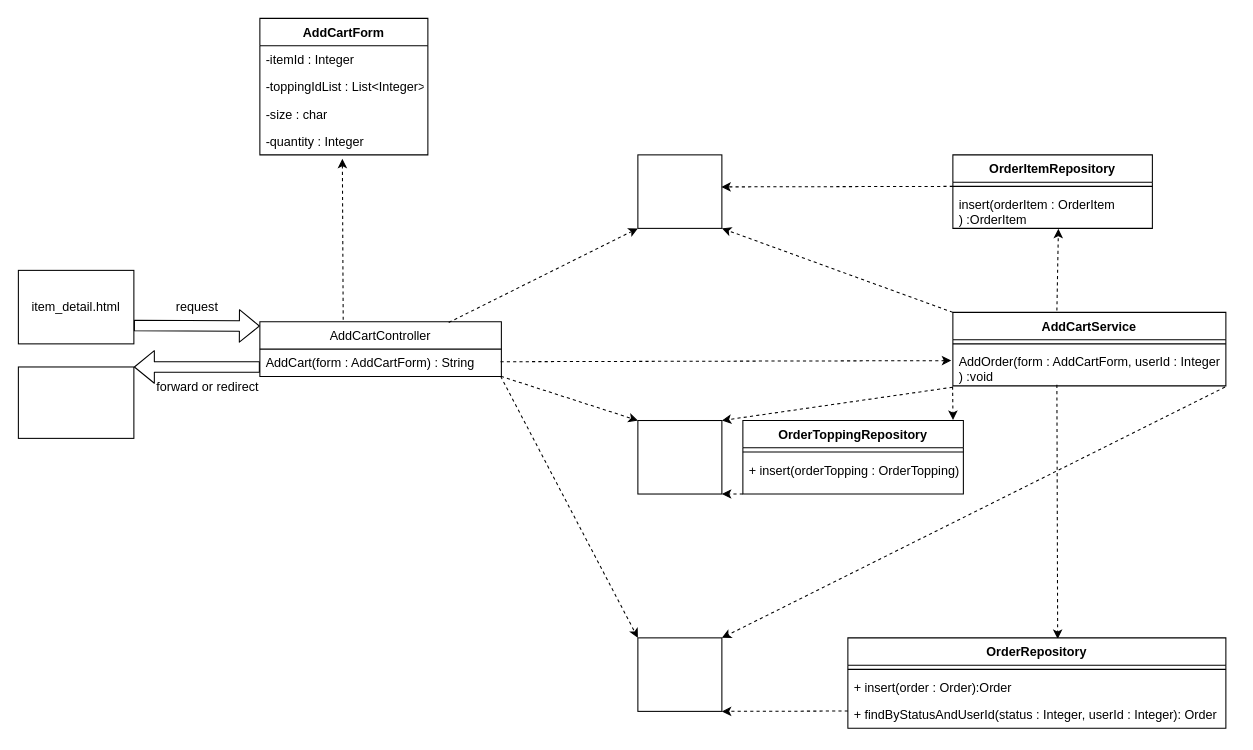
Image size: 1253x750. Some labels were removed from this diagram. Here are the shapes that lost their labels. From the top down, the centre of each, then its label:
At [679,191]: "«Domain» OrderItem".
At [75,402]: "cart_list.html".
At [679,456]: "«Domain» OrderTopping".
At [679,674]: "«Domain» Order".
